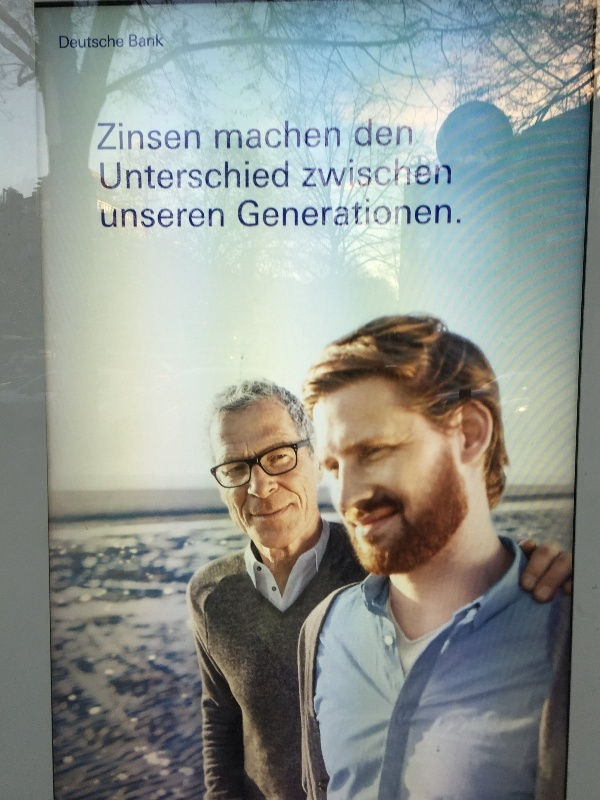text: (273, 160, 289, 192), (113, 160, 128, 192), (129, 160, 144, 192), (145, 160, 160, 192), (161, 160, 176, 192), (177, 160, 192, 192), (193, 160, 208, 192), (209, 160, 224, 192), (225, 160, 240, 192), (241, 160, 256, 192), (257, 160, 272, 192), (369, 117, 384, 149), (385, 117, 400, 149), (305, 157, 320, 188), (321, 157, 336, 188), (337, 157, 352, 188), (353, 157, 368, 188), (369, 157, 384, 188), (385, 157, 400, 188), (401, 157, 416, 188), (417, 157, 432, 188), (433, 157, 448, 188), (241, 199, 256, 228), (257, 199, 272, 228), (273, 199, 288, 228), (289, 199, 304, 228), (305, 199, 320, 228), (321, 199, 336, 228), (337, 199, 352, 228), (353, 199, 368, 228), (369, 199, 384, 228), (385, 199, 400, 228), (401, 199, 416, 228), (417, 199, 432, 228), (433, 199, 448, 228), (225, 120, 240, 149), (241, 120, 256, 149), (257, 120, 272, 149), (273, 120, 288, 149), (289, 120, 304, 149), (305, 120, 320, 149), (321, 120, 336, 149), (113, 123, 128, 151), (129, 123, 144, 151), (145, 123, 160, 151), (161, 123, 176, 151), (177, 123, 192, 151), (355, 117, 368, 149), (98, 123, 112, 151), (100, 160, 112, 192), (401, 117, 413, 149), (449, 199, 462, 228), (209, 208, 225, 230), (113, 208, 128, 230), (129, 208, 144, 230), (145, 208, 160, 230), (161, 208, 176, 230), (177, 208, 192, 230), (193, 208, 208, 230), (215, 120, 224, 149), (101, 208, 112, 230), (65, 33, 80, 49), (81, 33, 96, 49), (97, 33, 112, 49), (193, 123, 201, 151), (145, 34, 160, 48), (130, 34, 144, 48), (113, 33, 124, 49), (337, 120, 341, 149), (449, 157, 452, 188), (60, 33, 64, 49), (238, 199, 240, 228), (161, 34, 163, 48)
